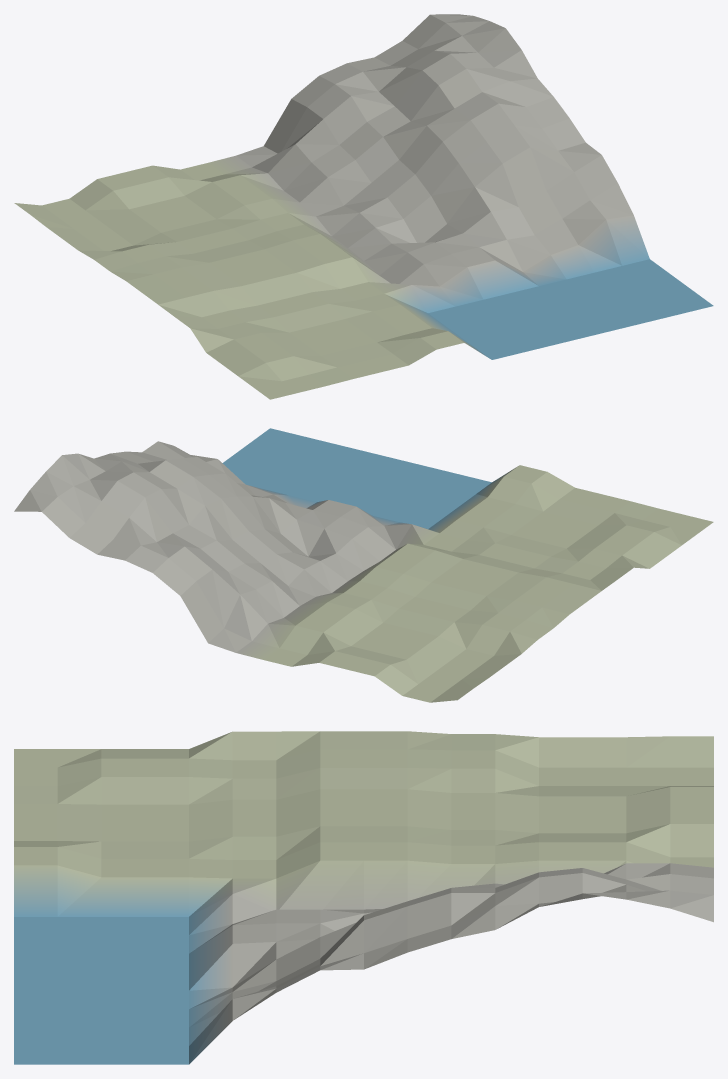
The picture shows the model from 3 angles, top to bottom: view 1: azimuth 30°, elevation 25°; view 2: azimuth 150°, elevation 25°; view 3: azimuth 270°, elevation 25°; orthographic projection. The views are drawn at different scales.
Size of the model in its own units: 32 by 8.64 by 32.
